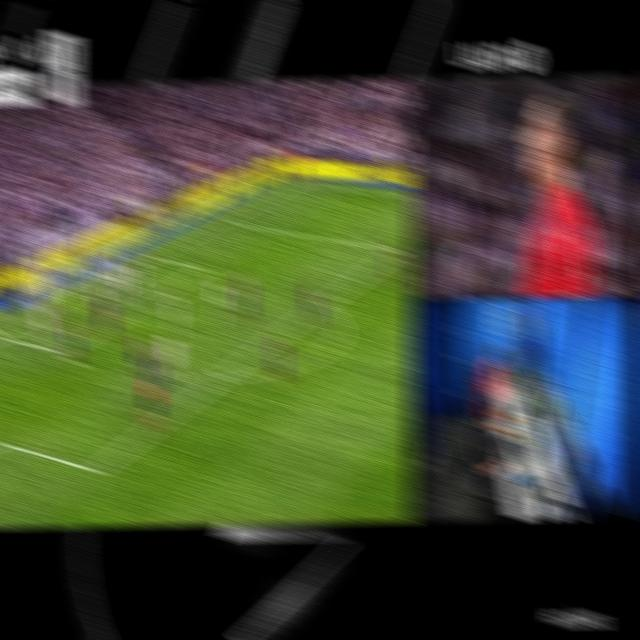bigarea_bottom_inner: (85, 456, 106, 484)
bigarea_top_inner: (389, 242, 405, 258)
bigarea_top_outter: (212, 210, 230, 226)
bottom_arc_area_intersection: (212, 363, 231, 388)
smallarea_bottom_inner: (51, 342, 68, 359)
smallarea_bottom_outter: (0, 323, 5, 343)
smallarea_top_inner: (195, 258, 212, 276)
smallarea_top_outter: (141, 247, 158, 264)
top_arc_area_intersection: (316, 292, 333, 310)
